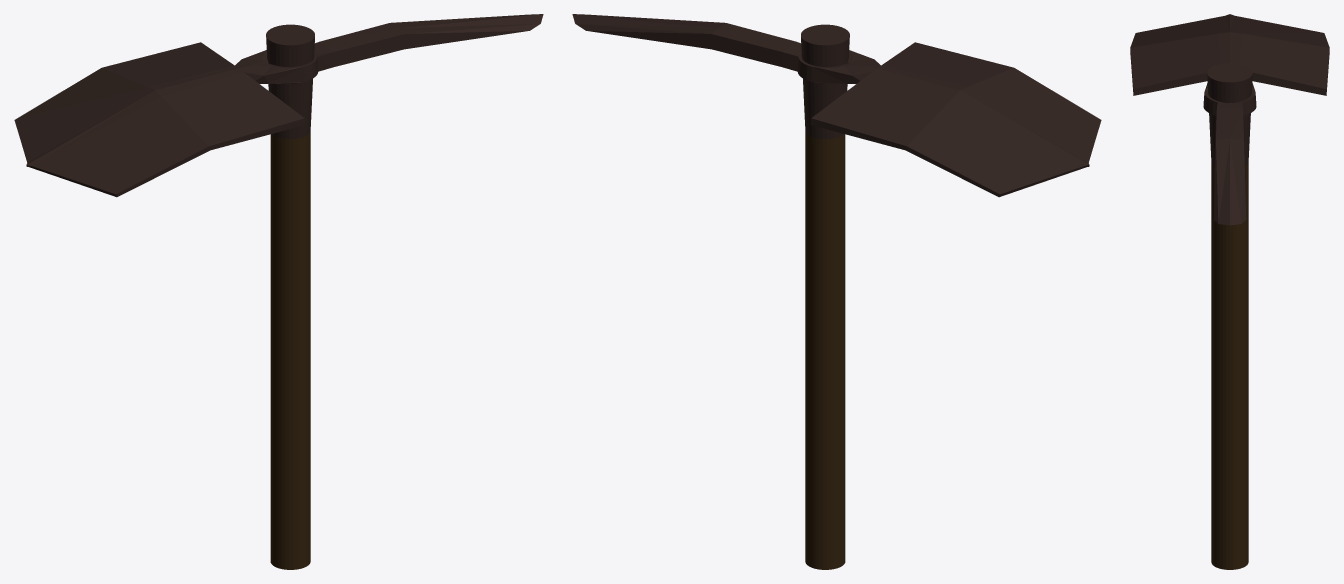
The model's file is entrenchingtool.dae.
3 views of the same model, side by side, from view 1: azimuth 30°, elevation 25°; view 2: azimuth 150°, elevation 25°; view 3: azimuth 270°, elevation 25° (orthographic). The views are drawn at different scales.
Visible parts, largest first — view 1: Plane, Cylinder; view 2: Plane, Cylinder; view 3: Plane, Cylinder.
Boxes of the visible parts, bbox=[...] form: Plane: bbox=[14, 14, 543, 197]; Cylinder: bbox=[266, 24, 314, 569]; Plane: bbox=[572, 14, 1101, 197]; Cylinder: bbox=[801, 24, 849, 569]; Plane: bbox=[1130, 14, 1329, 225]; Cylinder: bbox=[1207, 63, 1252, 569].
Bounding box in the file's own units: 7.44 × 2.68 × 7.24.
